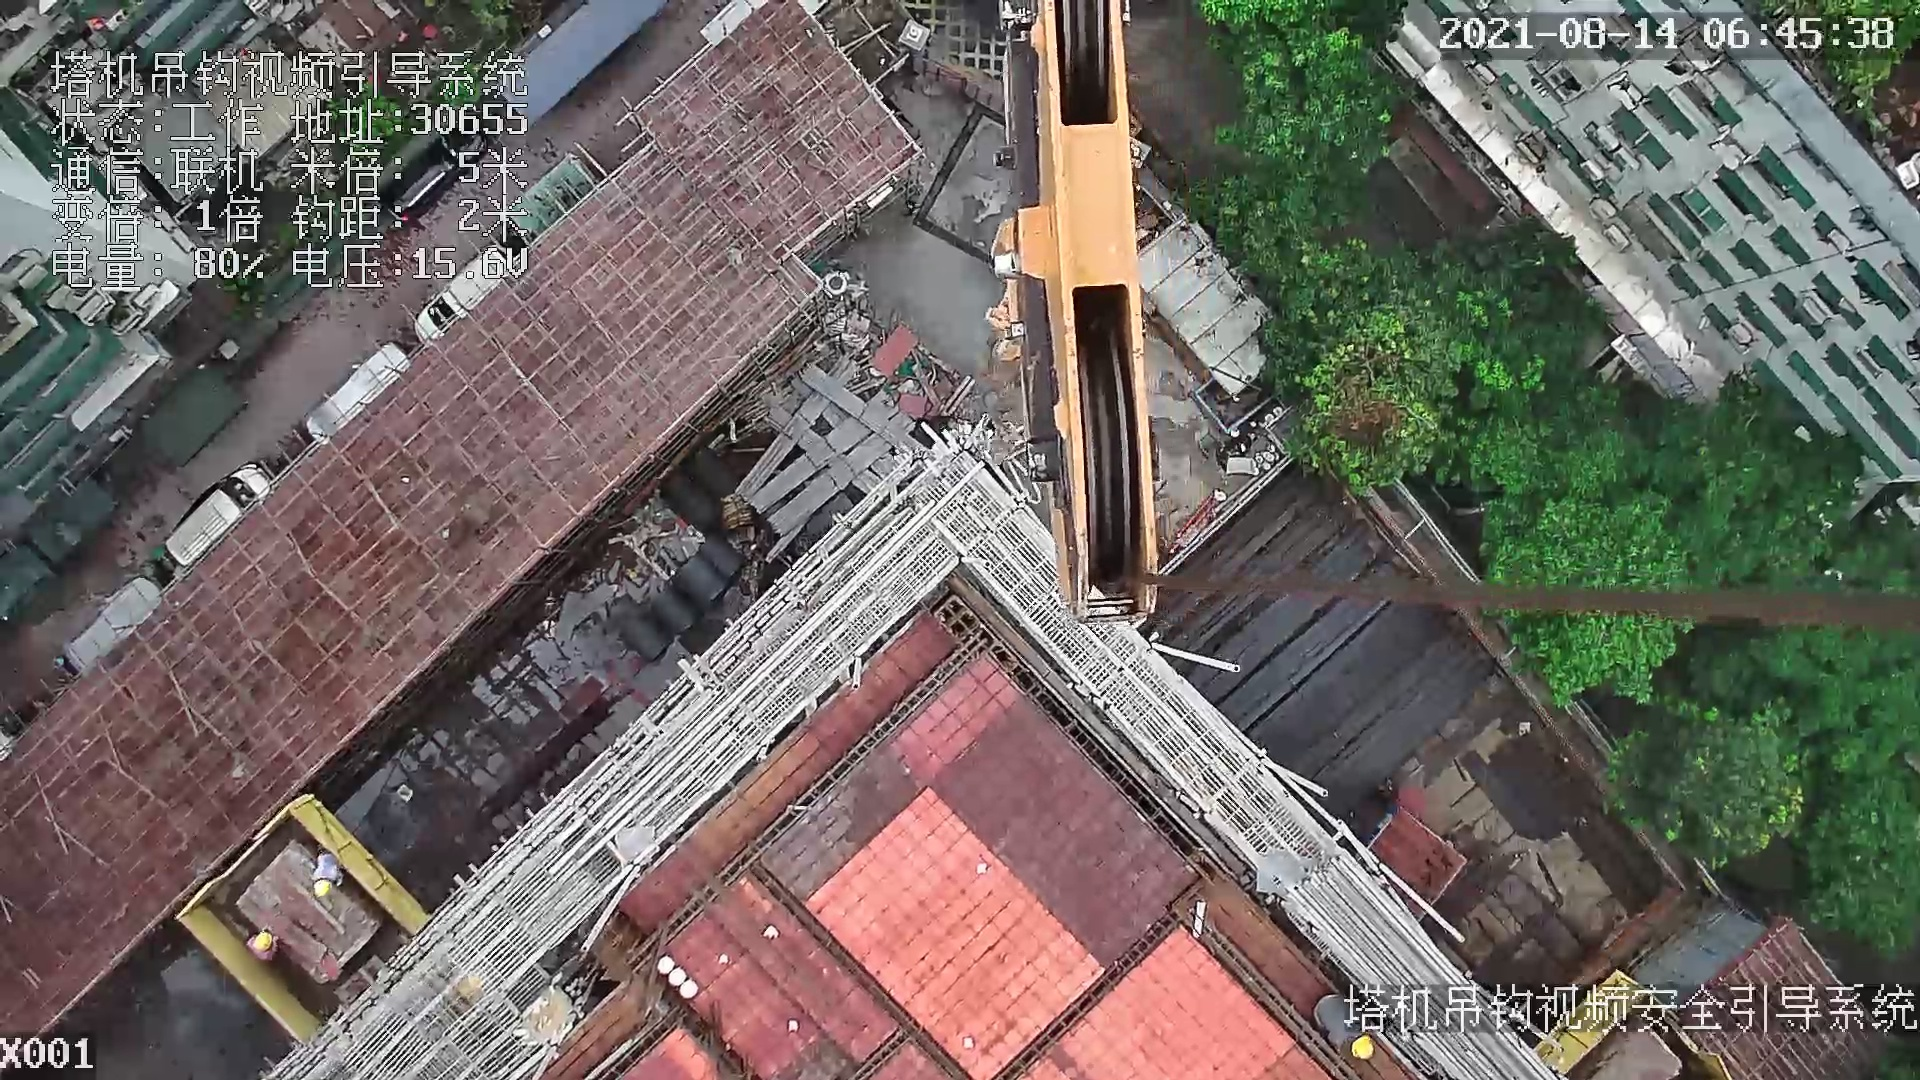helmet: (1348, 1035, 1374, 1065), (255, 932, 284, 949), (312, 879, 340, 897)
person: (1309, 983, 1387, 1059), (312, 847, 344, 896), (235, 922, 276, 958)
